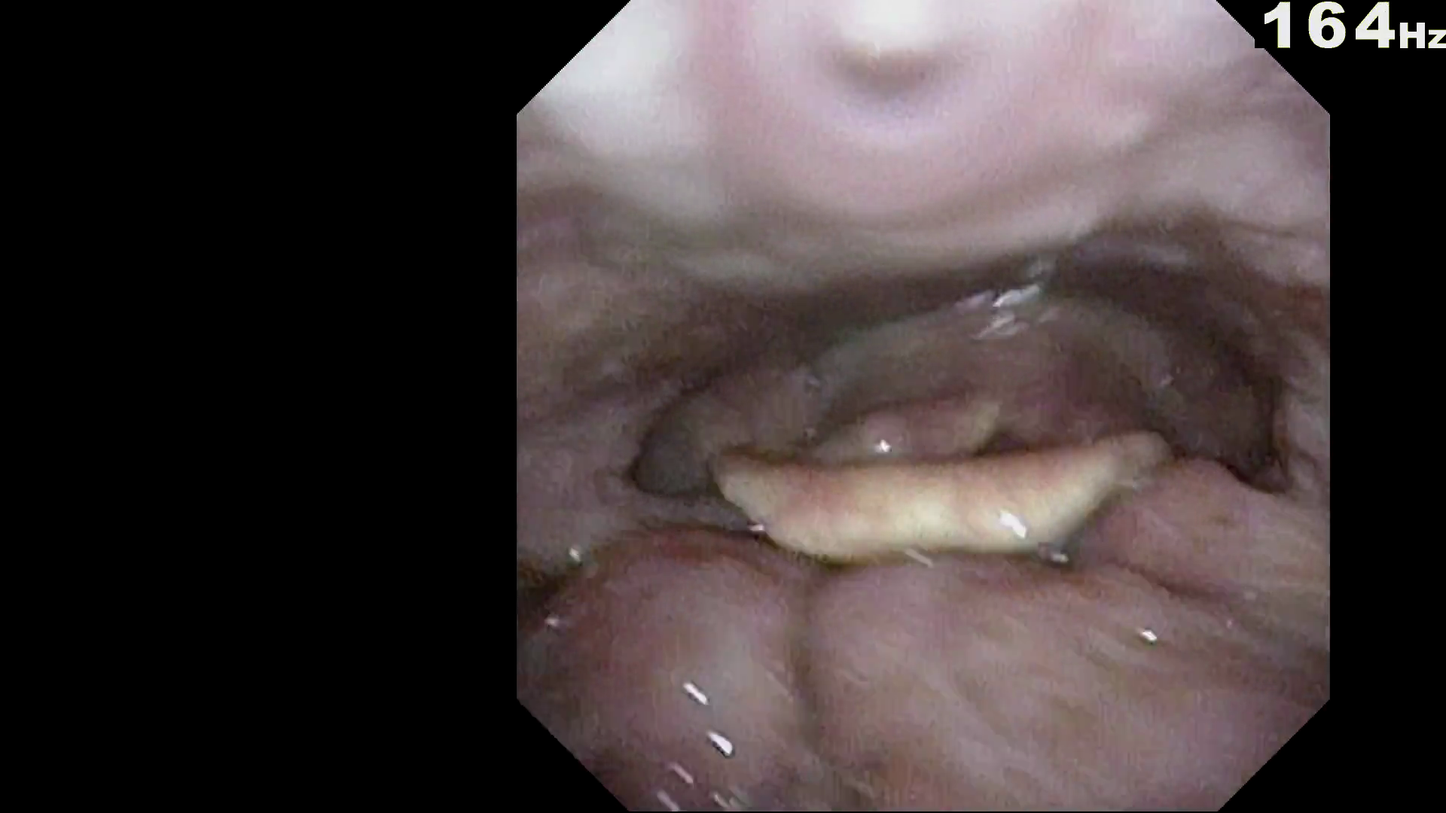epiglottis: (691, 410, 1175, 554)
